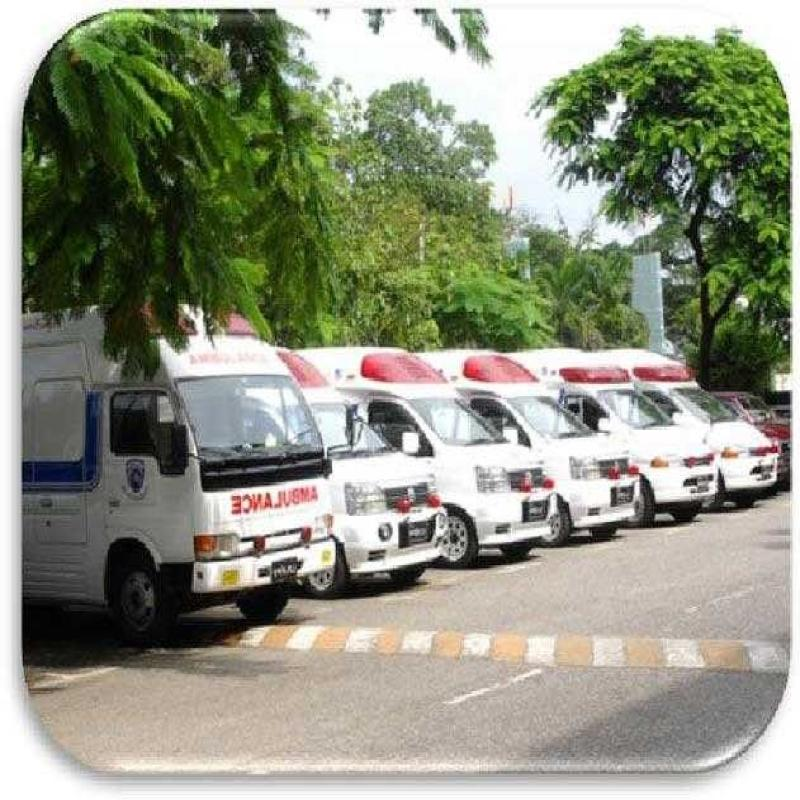AmbulanceSiren: (350, 335, 440, 387), (560, 350, 633, 398), (462, 352, 535, 389), (646, 358, 690, 384)
